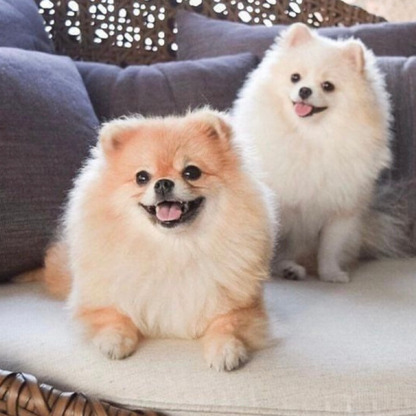Pomeranian: (48, 107, 276, 365), (248, 15, 401, 284)
